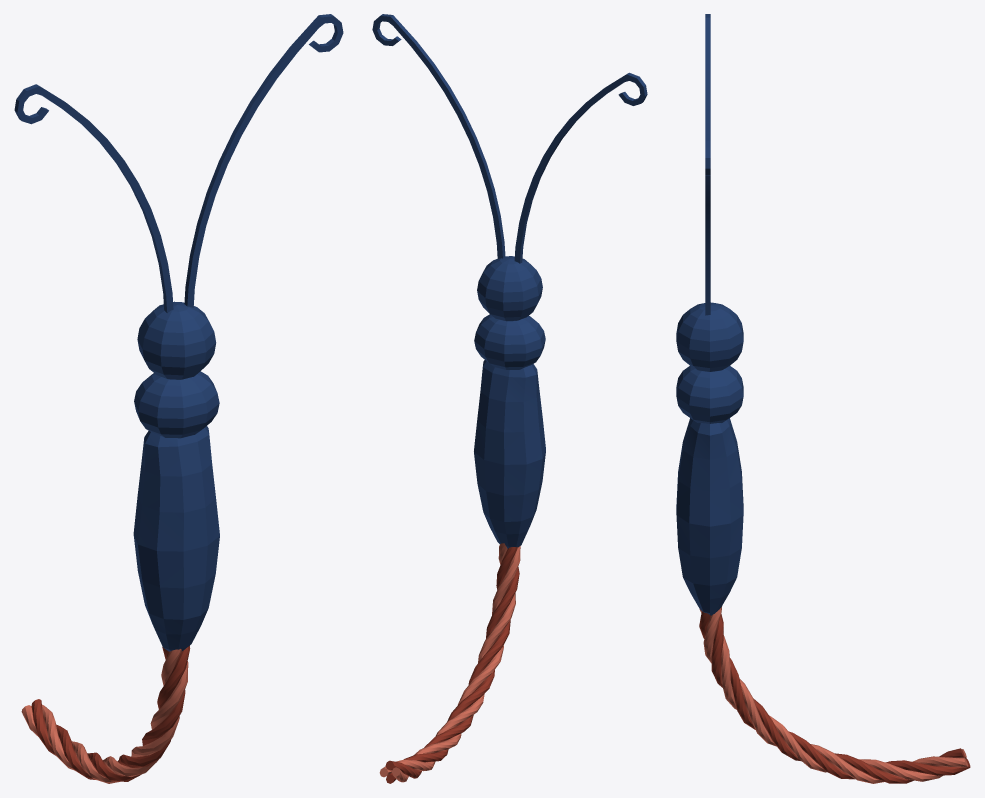
File: FlowtBombBody.fbx
The picture shows the model from 3 angles, left to right: view 1: azimuth 30°, elevation 25°; view 2: azimuth 150°, elevation 25°; view 3: azimuth 270°, elevation 25°; orthographic projection. The views are drawn at different scales.
Visible parts, largest first — view 1: polySurface578; view 2: polySurface578; view 3: polySurface578.
Boxes of the visible parts, <box> form: polySurface578: <box>14,14,343,783</box>; polySurface578: <box>372,14,647,783</box>; polySurface578: <box>676,14,970,783</box>.
Bounding box in the file's own units: 0.5325 × 1.24 × 0.4674.
Materials: 3 (3 with a texture image).
